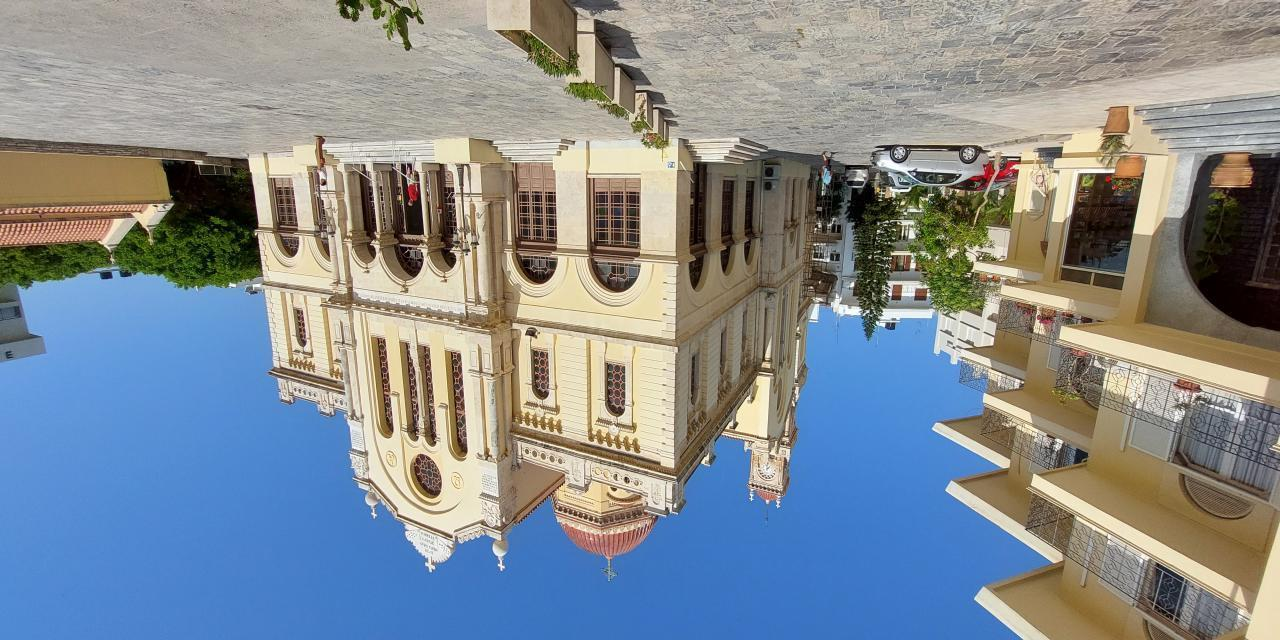Agios Minas: (251, 133, 833, 601)
